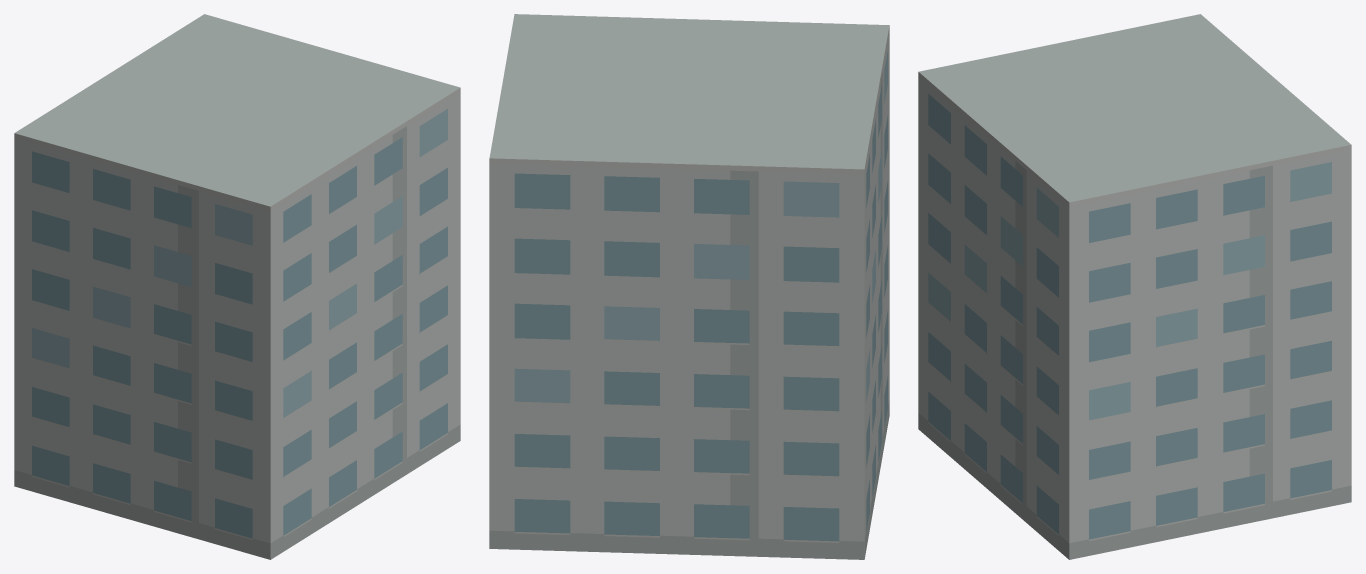
The model's file is survey-upis-32698833.glb.
3 views of the same model, side by side, from view 1: azimuth 30°, elevation 25°; view 2: azimuth 150°, elevation 25°; view 3: azimuth 270°, elevation 25° (orthographic). The views are drawn at different scales.
Parts seen in each view (by area): view 1: survey-upis-32698833.tmp; view 2: survey-upis-32698833.tmp; view 3: survey-upis-32698833.tmp.
Boxes of the visible parts, x1,y1,x2,y2 form: survey-upis-32698833.tmp: [14, 14, 460, 559]; survey-upis-32698833.tmp: [489, 14, 889, 559]; survey-upis-32698833.tmp: [918, 14, 1351, 559].
Bounding box in the file's own units: 20.69 × 18.3 × 20.1.
